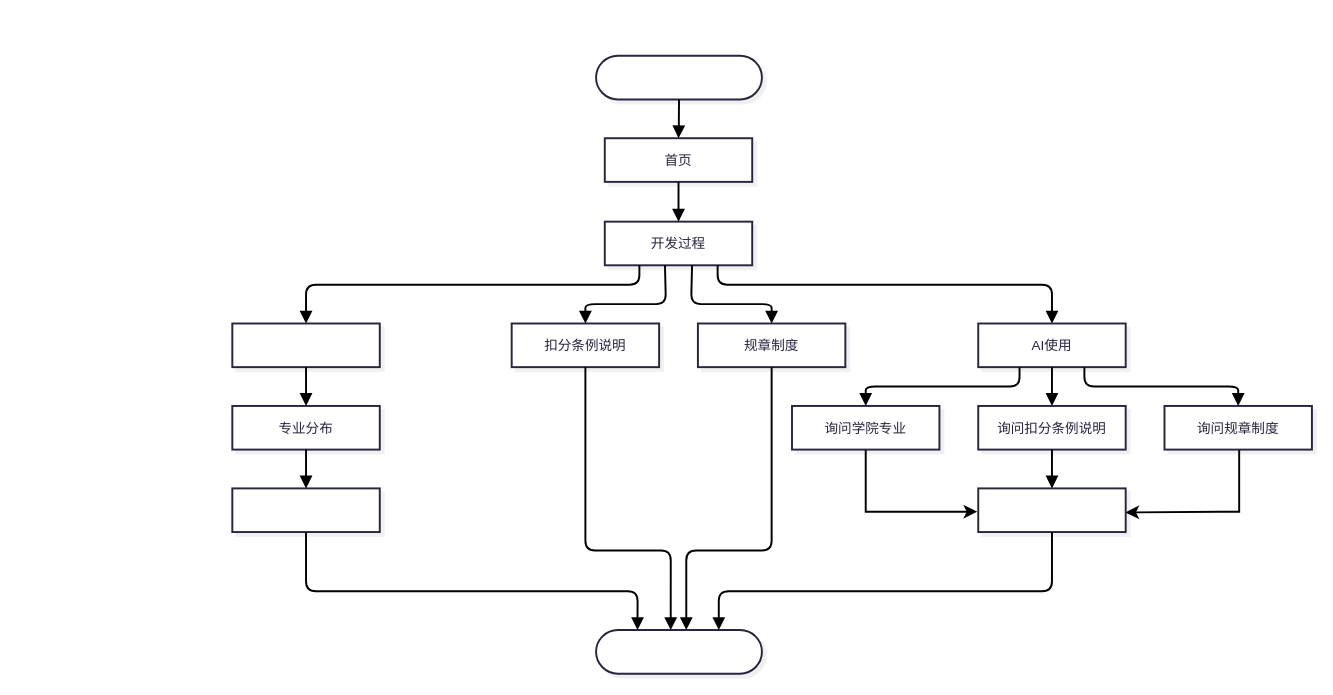
The diagram is 1333 pixels wide and 695 high, and some of its shapes have lost their labels. Each missing label, with the centre of its shape:
专业介绍: pixel 307 511
学院: pixel 307 347
结束: pixel 680 653
说明: pixel 1053 511
进入校园百事通: pixel 680 79
